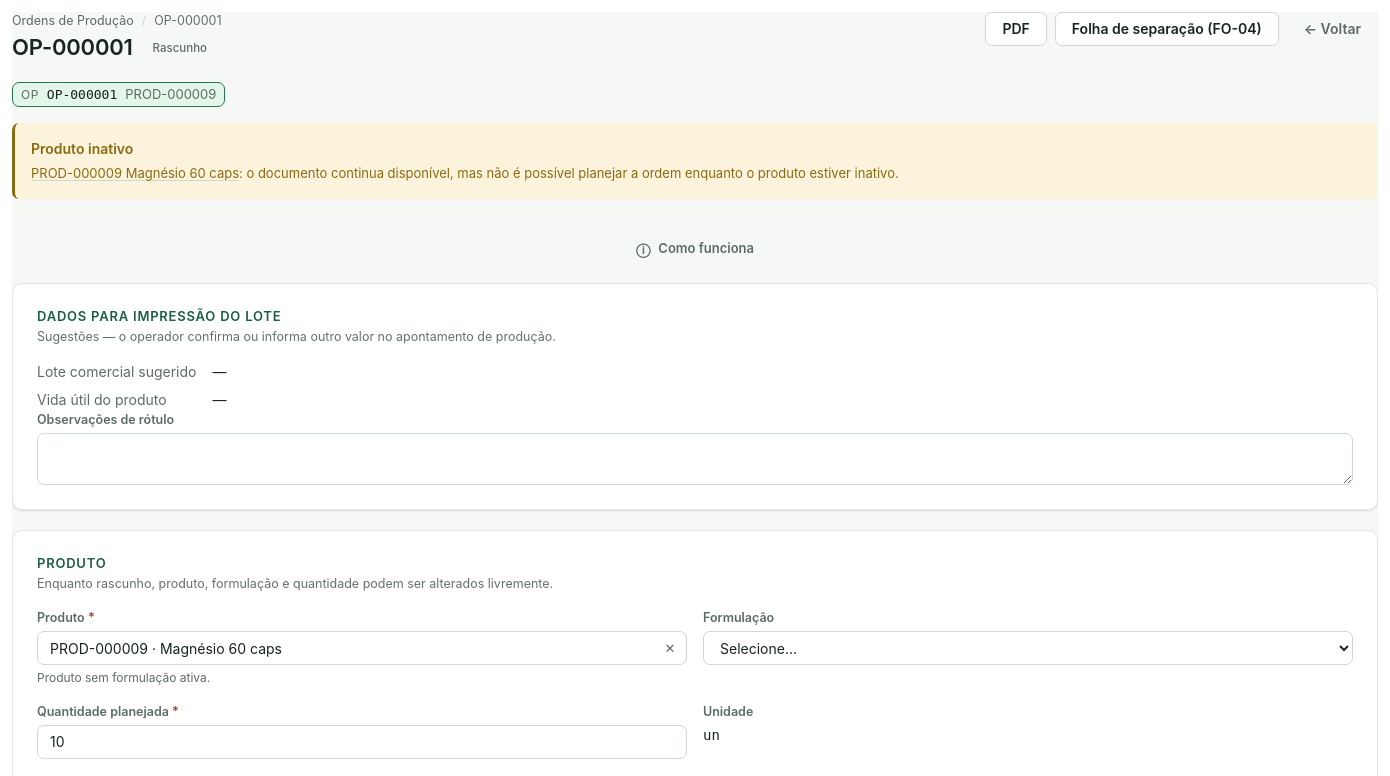
Test case: OP — produto ou PA inativado depois que a ordem nasceu › rascunho com produto inativo: o aviso fala em planejar, e a opção do campo diz a situação
This screenshot has width=1390, height=776.
Expected: the text "não é possível planejar a ordem enquanto o produto estiver inativo." is shown, [239,165,899,181]
Click the dropdown with id "op-product".
click(362, 648)  # box [37,631,687,665]
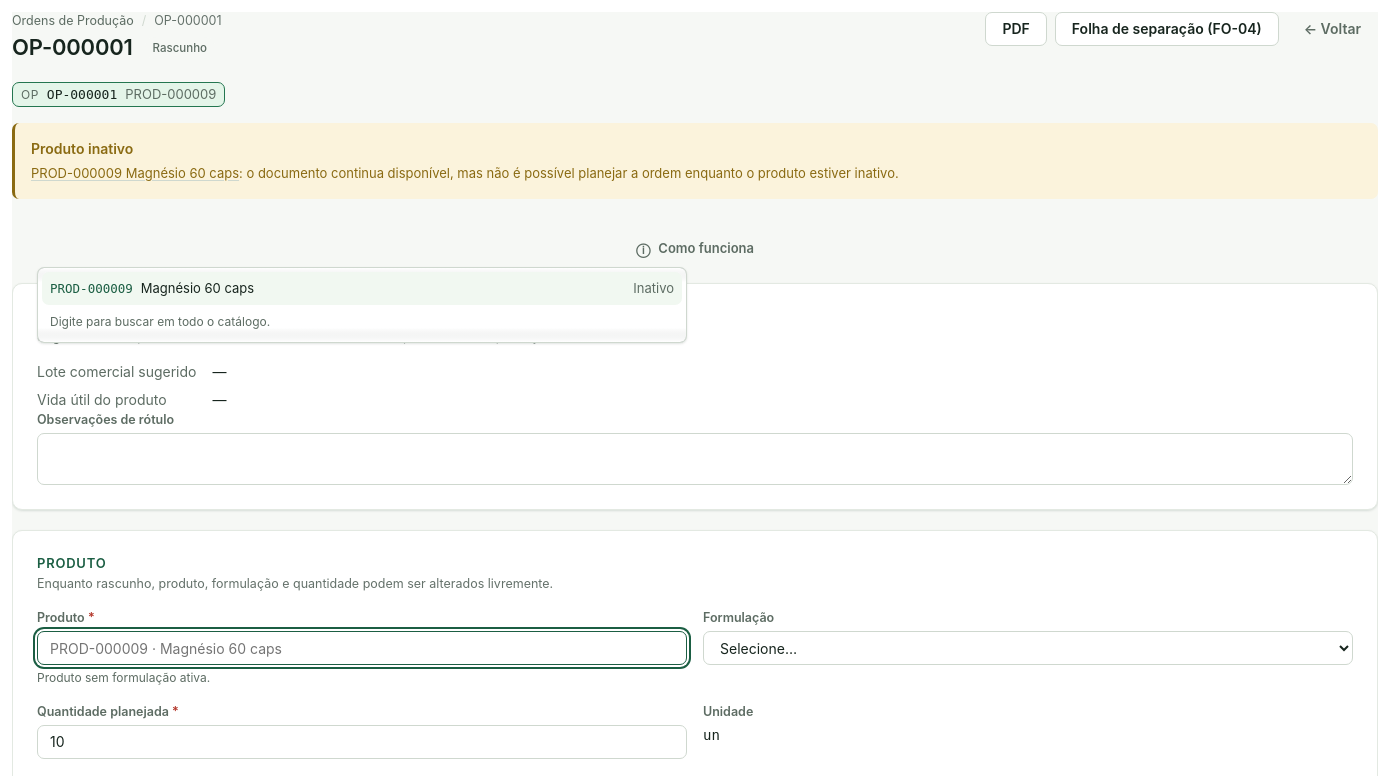
Expected: the text "Inativo" is shown, [633,280,674,296]
